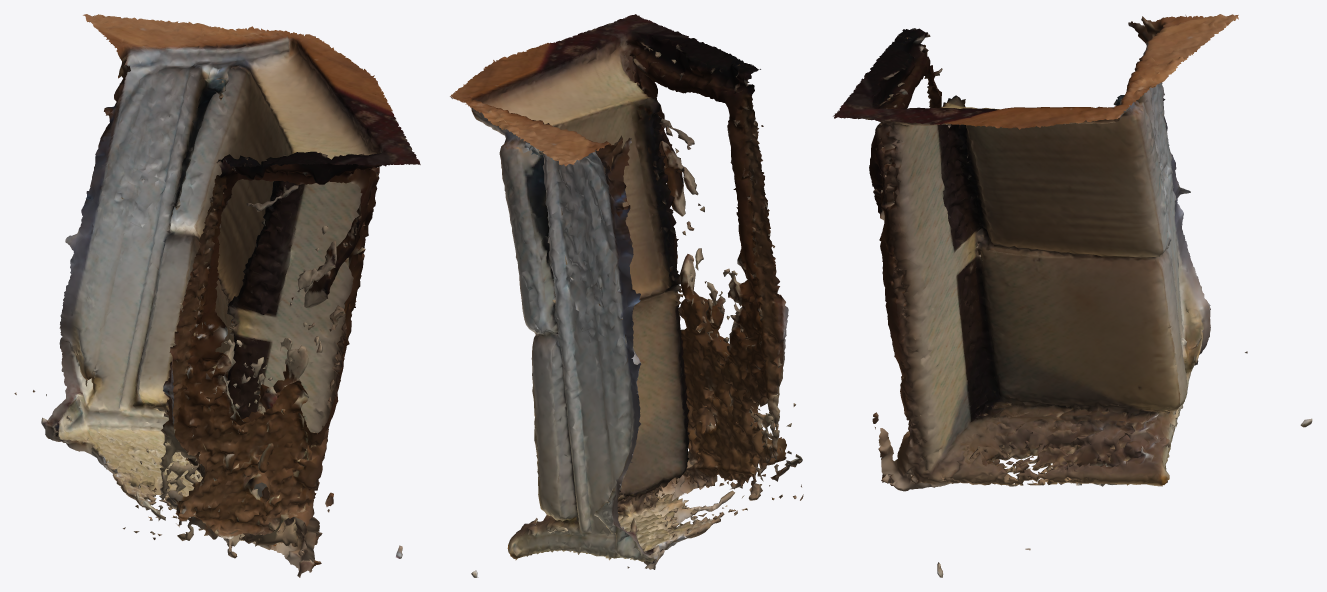
The model's file is CouchModel_TotallyDecimatedBuddy.fbx.
The picture shows the model from 3 angles, left to right: view 1: azimuth 30°, elevation 25°; view 2: azimuth 150°, elevation 25°; view 3: azimuth 270°, elevation 25°; orthographic projection. The views are drawn at different scales.
Visible parts, largest first — view 1: Model; view 2: Model; view 3: Model.
Part boxes in pixels (bbox=[...]): Model: bbox=[14, 14, 420, 577]; Model: bbox=[450, 14, 803, 577]; Model: bbox=[833, 14, 1312, 577].
Size of the model in its own units: 2.14 by 3.57 by 3.23.
Materials: 1 (1 with a texture image).
